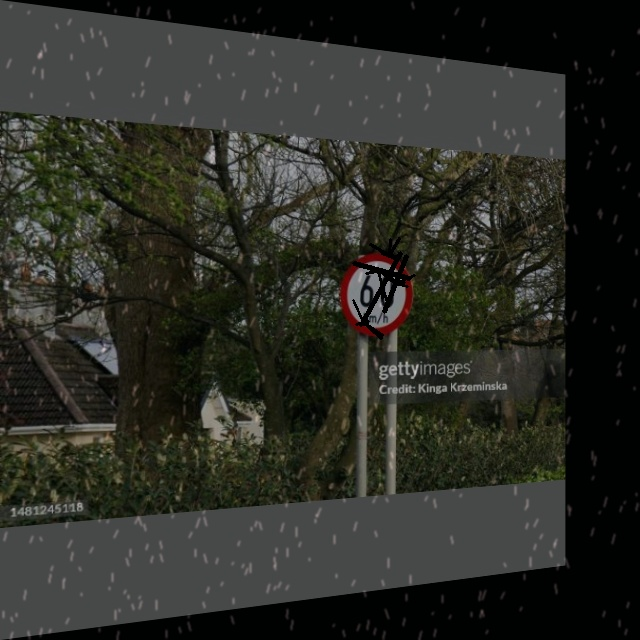Speed_Limit_60: (336, 251, 412, 340)
